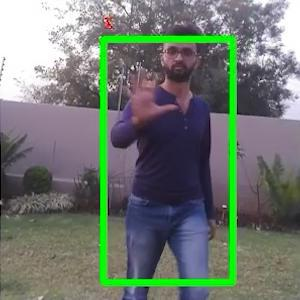follow_hand: (122, 61, 180, 126)
